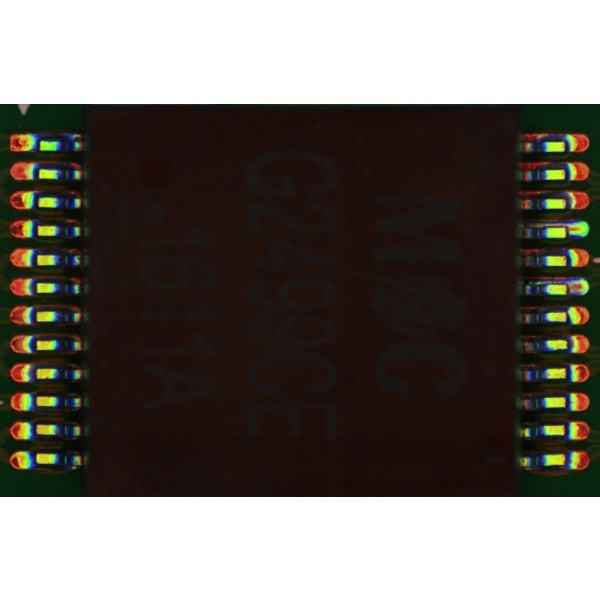Bad_podu: (562, 283, 581, 292), (560, 225, 579, 234)
Bad_qiaojiao: (528, 221, 569, 226), (528, 279, 567, 284)
